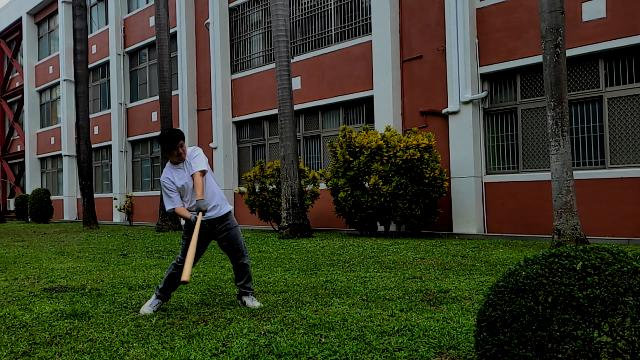baseball bat: (180, 212, 202, 284)
